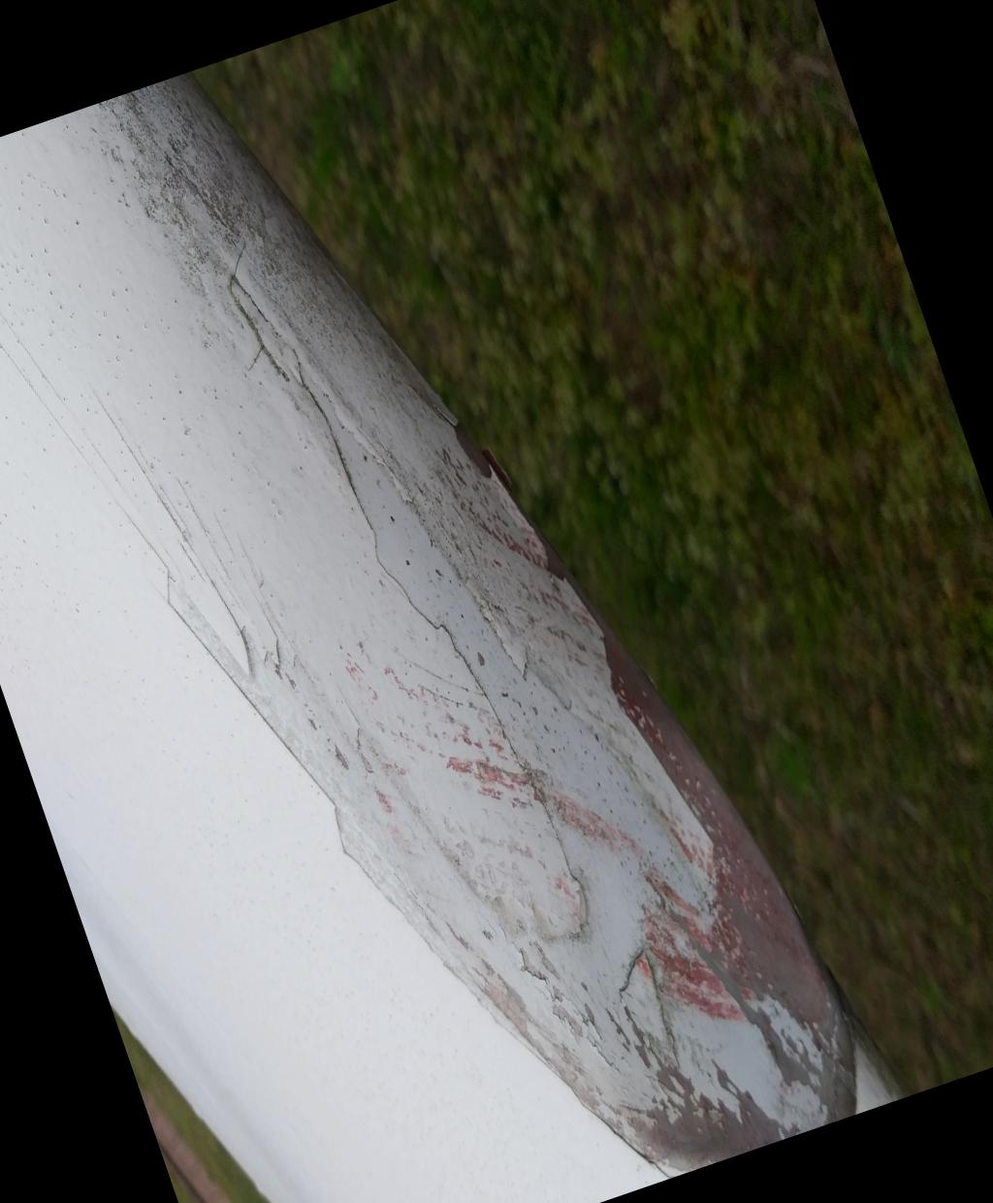corrosion: (80, 8, 591, 746)
